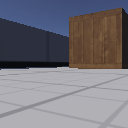obstacle: (70, 7, 127, 68)
